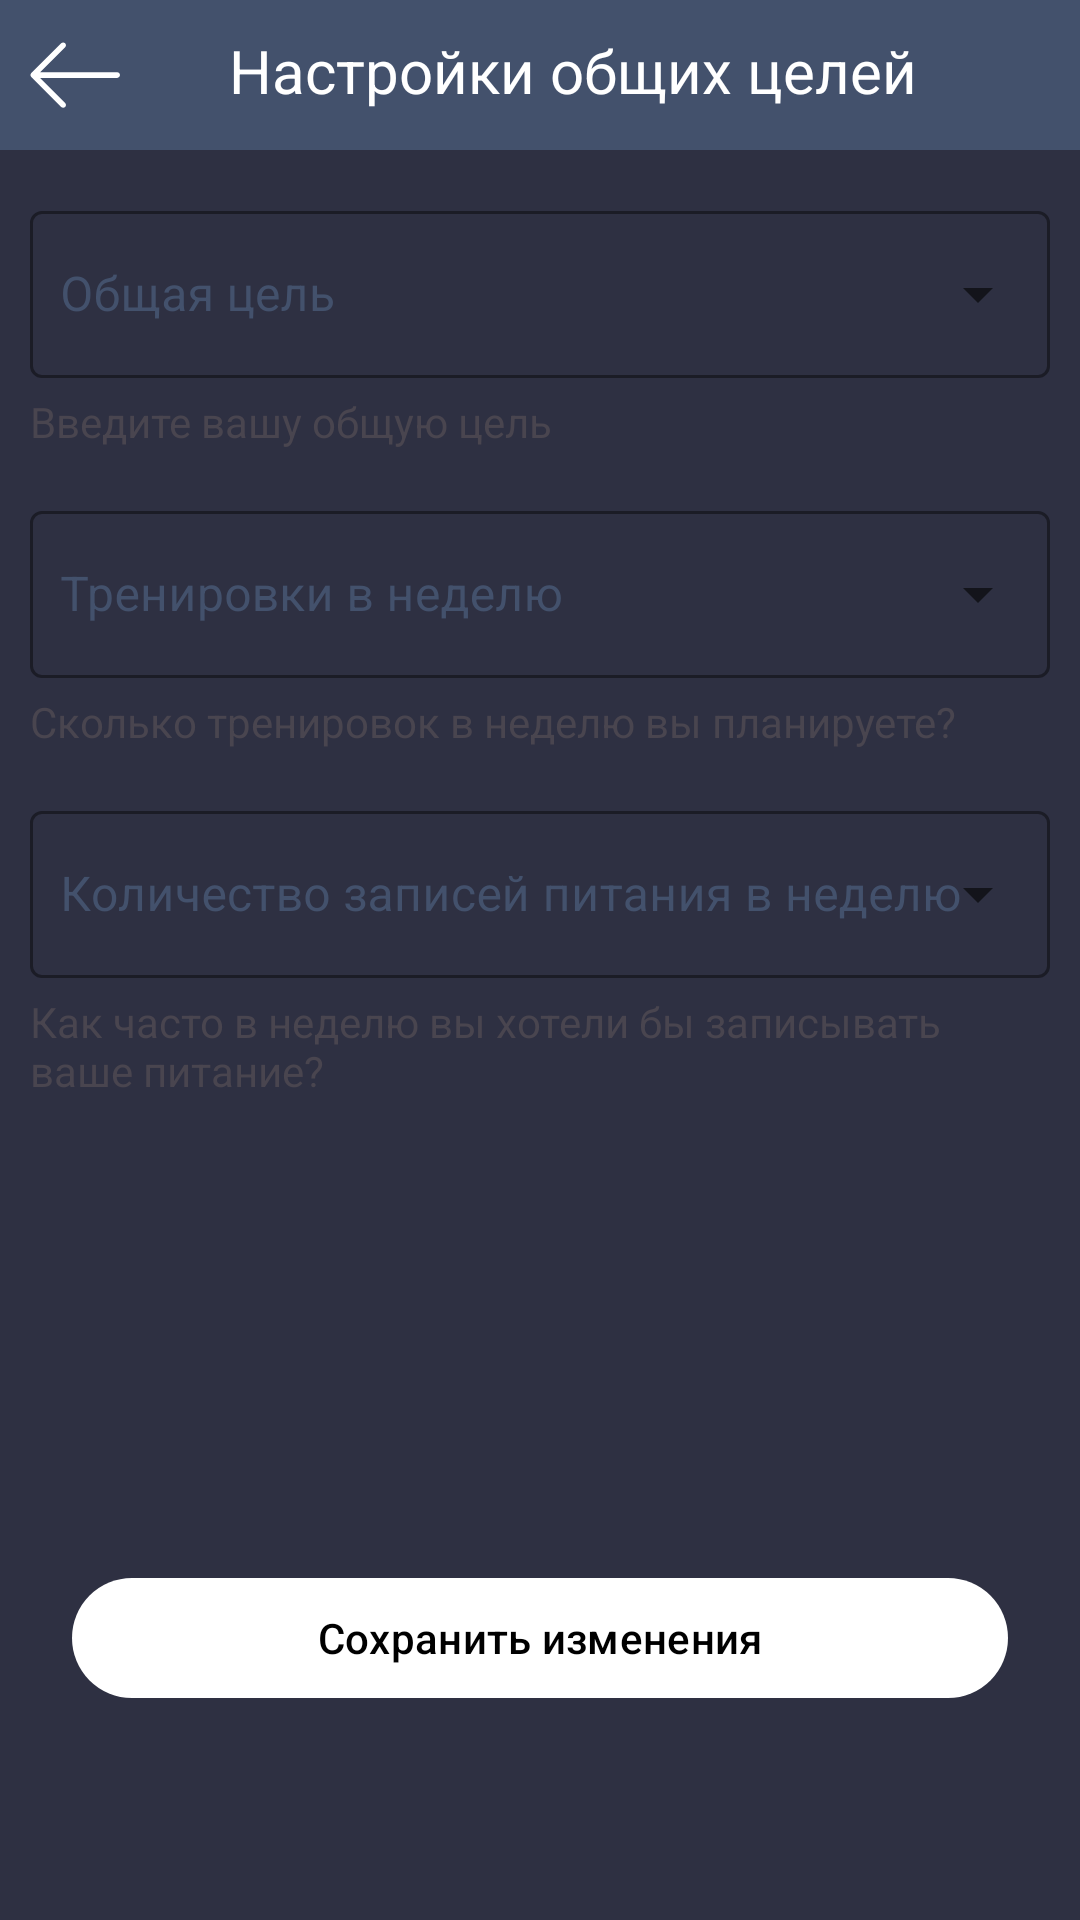

Named icons in this screenshot (1080px x 1920px) and their bounding boxes, (x1, y1, x2, y2):
Назад: (30, 42, 120, 108)
